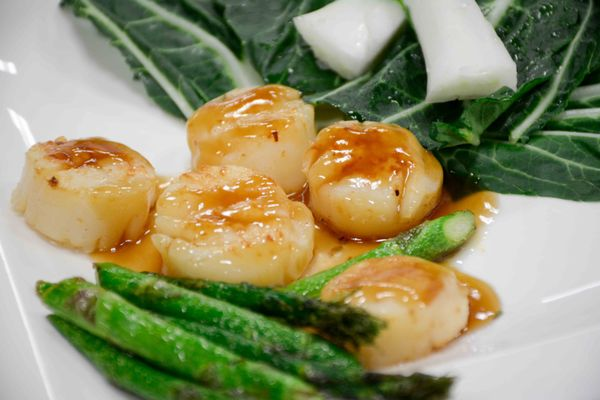pasta: (302, 119, 447, 242), (12, 135, 160, 254)
